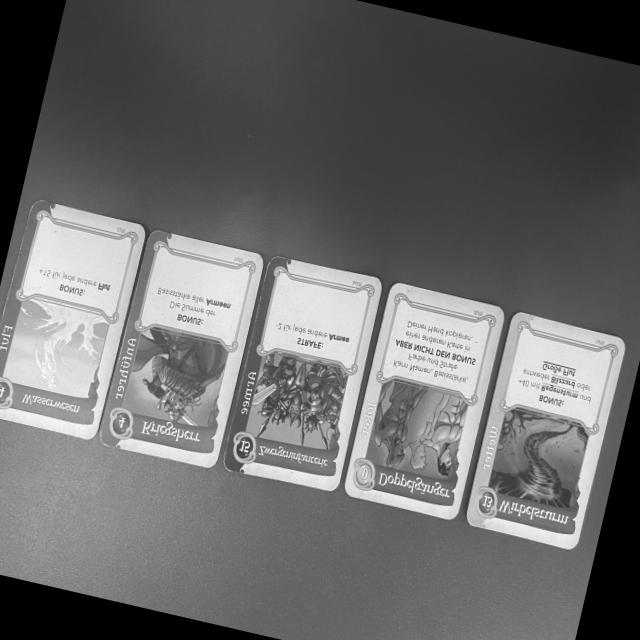Doppelganger: (339, 276, 506, 523)
Dwarvish Infantry: (223, 252, 387, 490)
Warlord: (95, 219, 265, 469)
Water Elemental: (0, 196, 149, 443)
Whirlwind: (465, 309, 633, 557)
